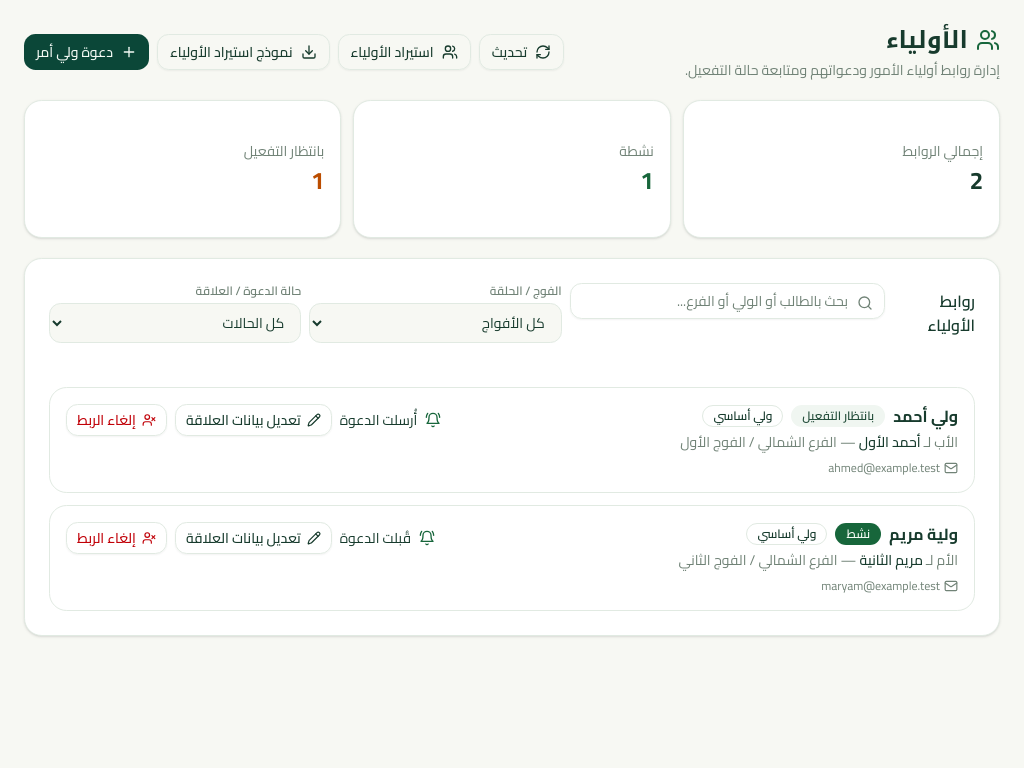
Test: guardian directory cohort and invitation filters › filters the directory by cohort and invitation status while showing sent, accepted, and active states
Check: the text "ولي أحمد" is shown, box [893,404,958,428]
Select "الفرع الشمالي — الفوج الأول" in the dropdown labelled "الفوج / الحلقة": (435, 323) [309,303,562,343]
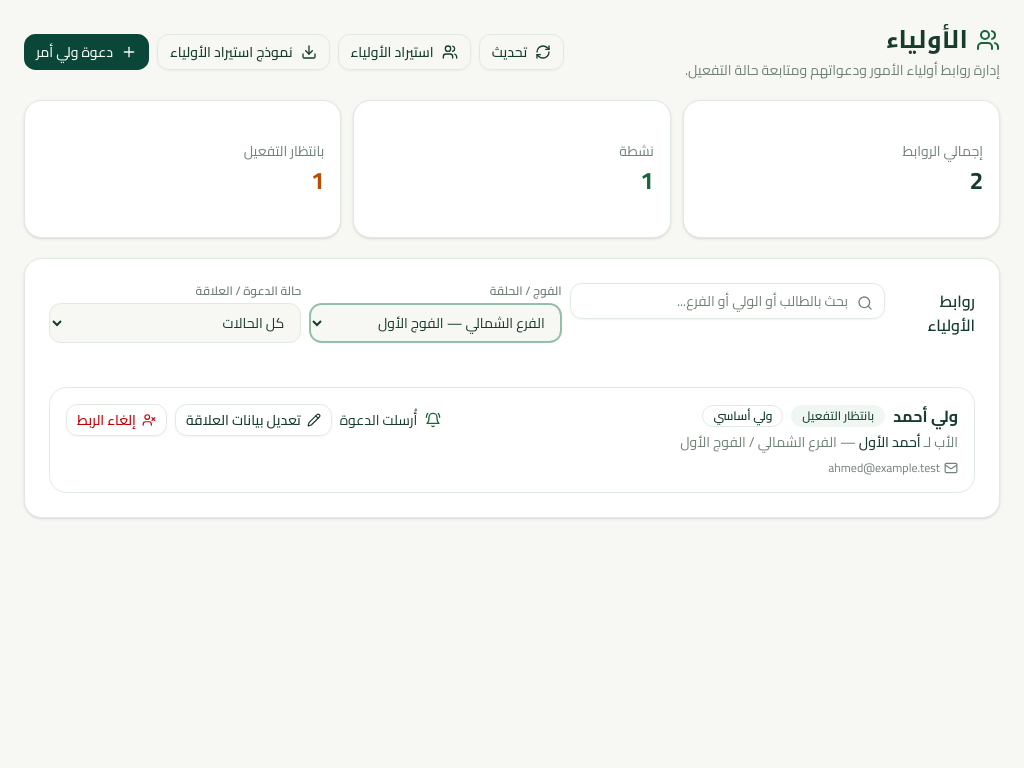
Check: the text "ولي أحمد" is shown, box [893,404,958,428]
Check: the text "ولية مريم" is gone
Select "كل الأفواج" in the dropdown labelled "الفوج / الحلقة": (435, 323) [309,303,562,343]
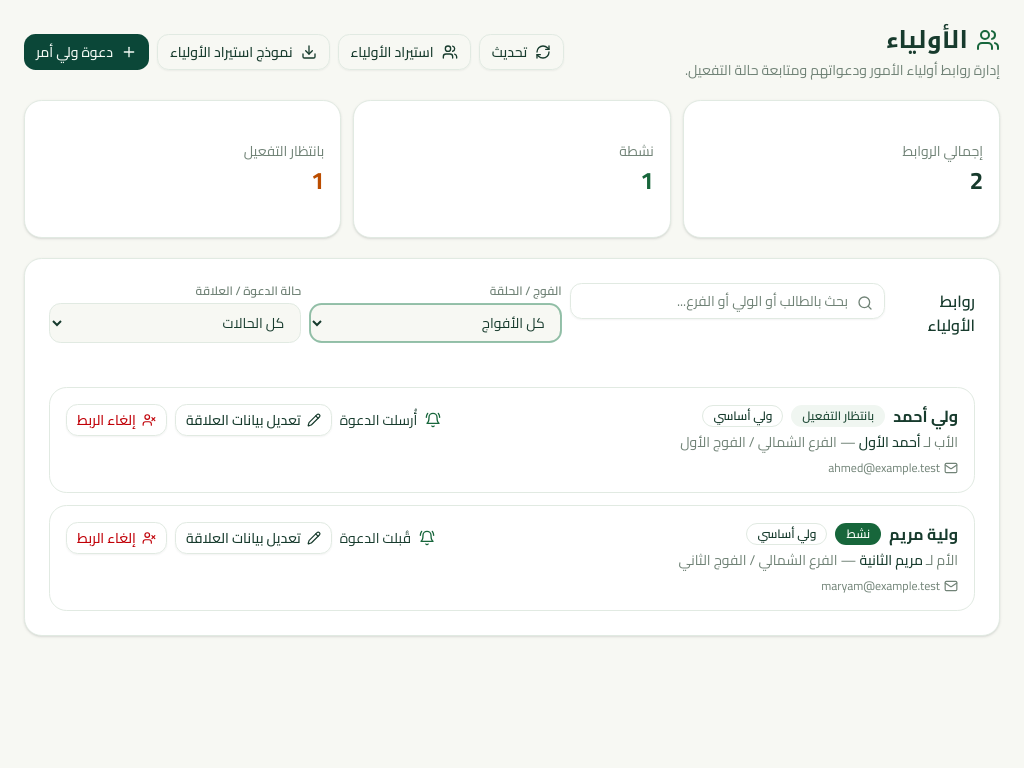
Select "قُبلت الدعوة" in the dropdown labelled "حالة الدعوة / العلاقة": (175, 323) [49,303,301,343]
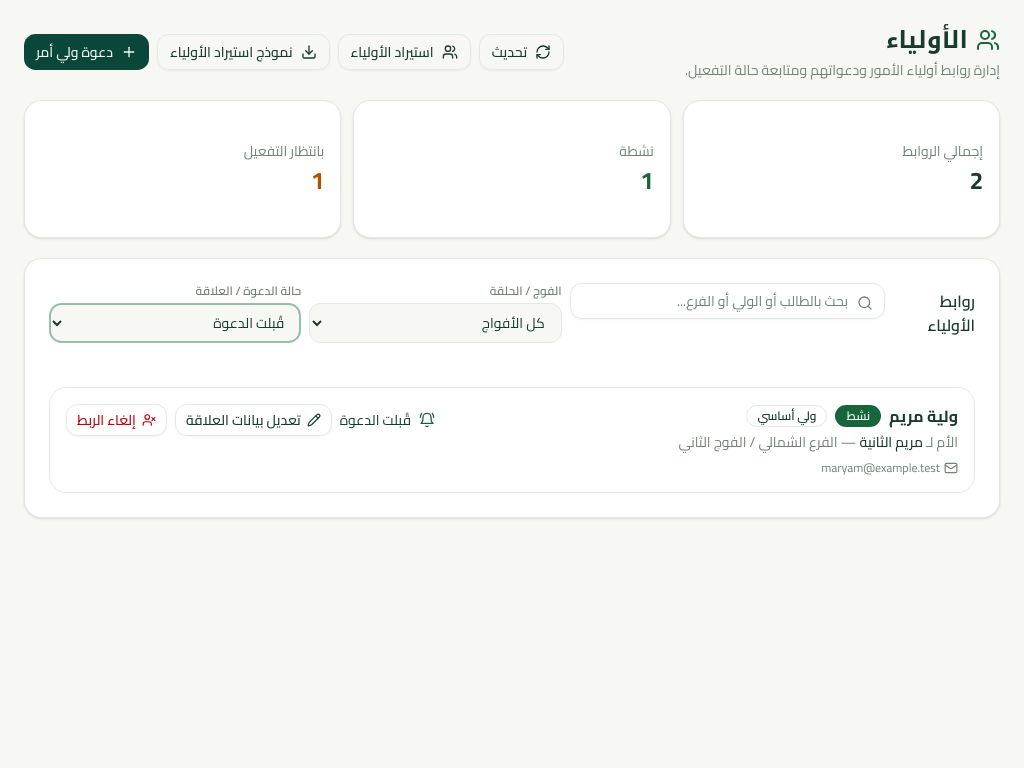
Check: the text "ولية مريم" is shown, box [889,404,958,428]
Check: the text "ولي أحمد" is gone
